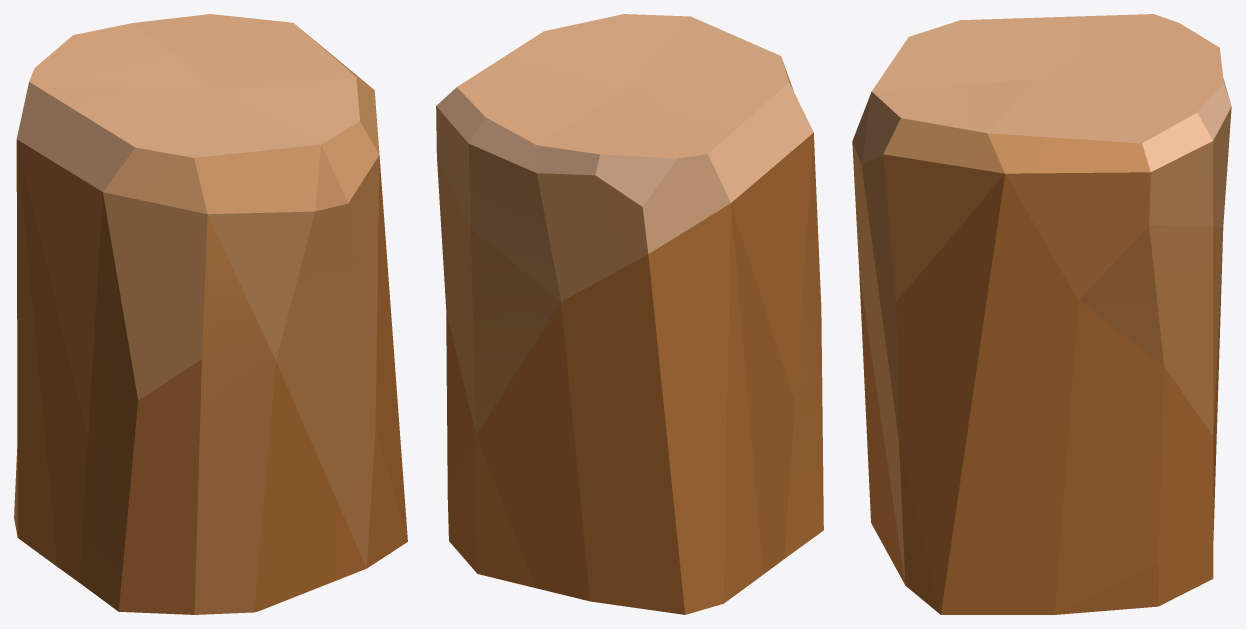
The model's file is stone_001.fbx.
The picture shows the model from 3 angles, left to right: view 1: azimuth 30°, elevation 25°; view 2: azimuth 150°, elevation 25°; view 3: azimuth 270°, elevation 25°; orthographic projection. The views are drawn at different scales.
Parts seen in each view (by area): view 1: stone_001; view 2: stone_001; view 3: stone_001.
Boxes of the visible parts, left/top/right/bottom form: stone_001: left=14, top=14, right=407, bottom=614; stone_001: left=436, top=14, right=823, bottom=614; stone_001: left=852, top=14, right=1231, bottom=614.
Bounding box in the file's own units: 103 × 154 × 113.
